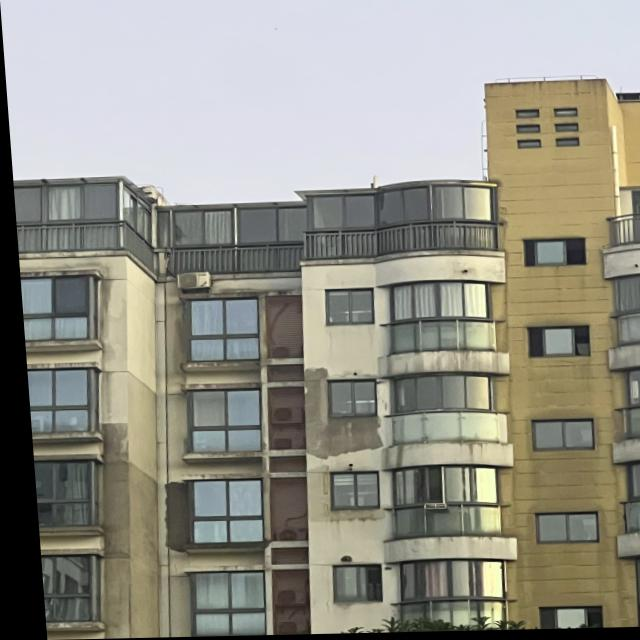damp: (513, 533, 625, 606), (517, 442, 614, 514), (371, 346, 508, 377), (382, 441, 512, 468), (381, 534, 510, 561)
spalling: (301, 364, 388, 457)
